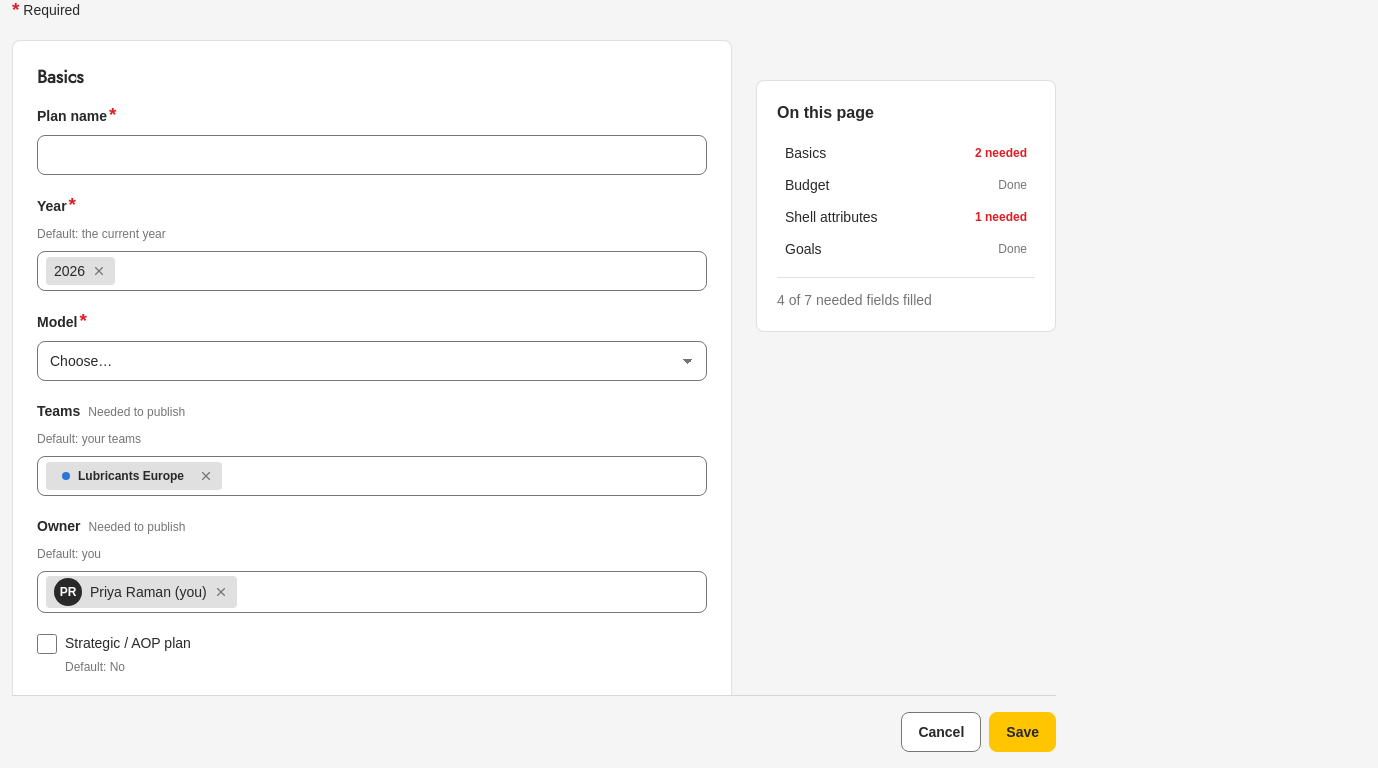
Test: PlanForm (US1, FR-005 – FR-010) › calculates the goals live from the chosen model (US1#5, FR-009)
The image size is (1378, 768).
Select "Lubricants 1.0" in the dropdown labelled "Model" at [372, 361], box x1=37 y1=341 x2=707 y2=381
(page scrolled)
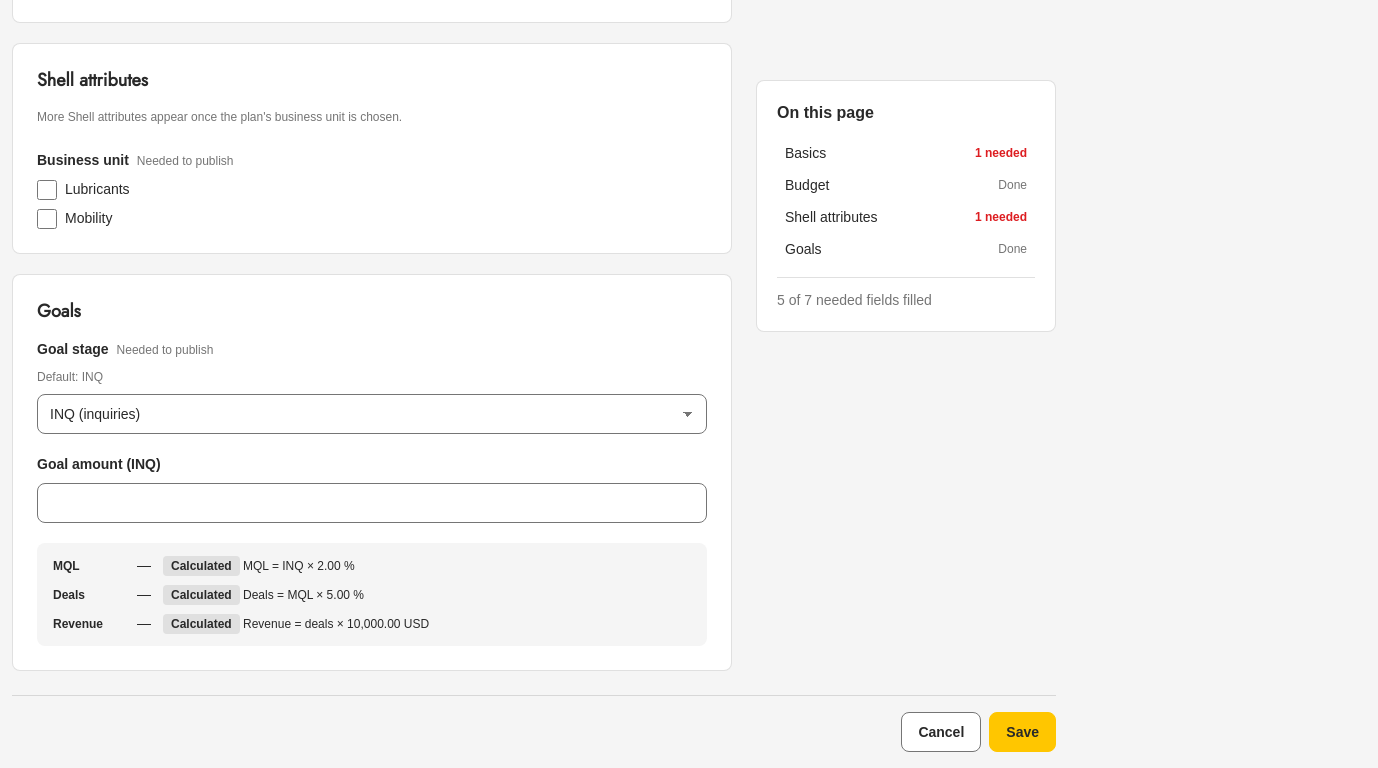
Type "250000" into the field labelled "Goal amount (INQ)" at [372, 503], box x1=37 y1=483 x2=707 y2=523
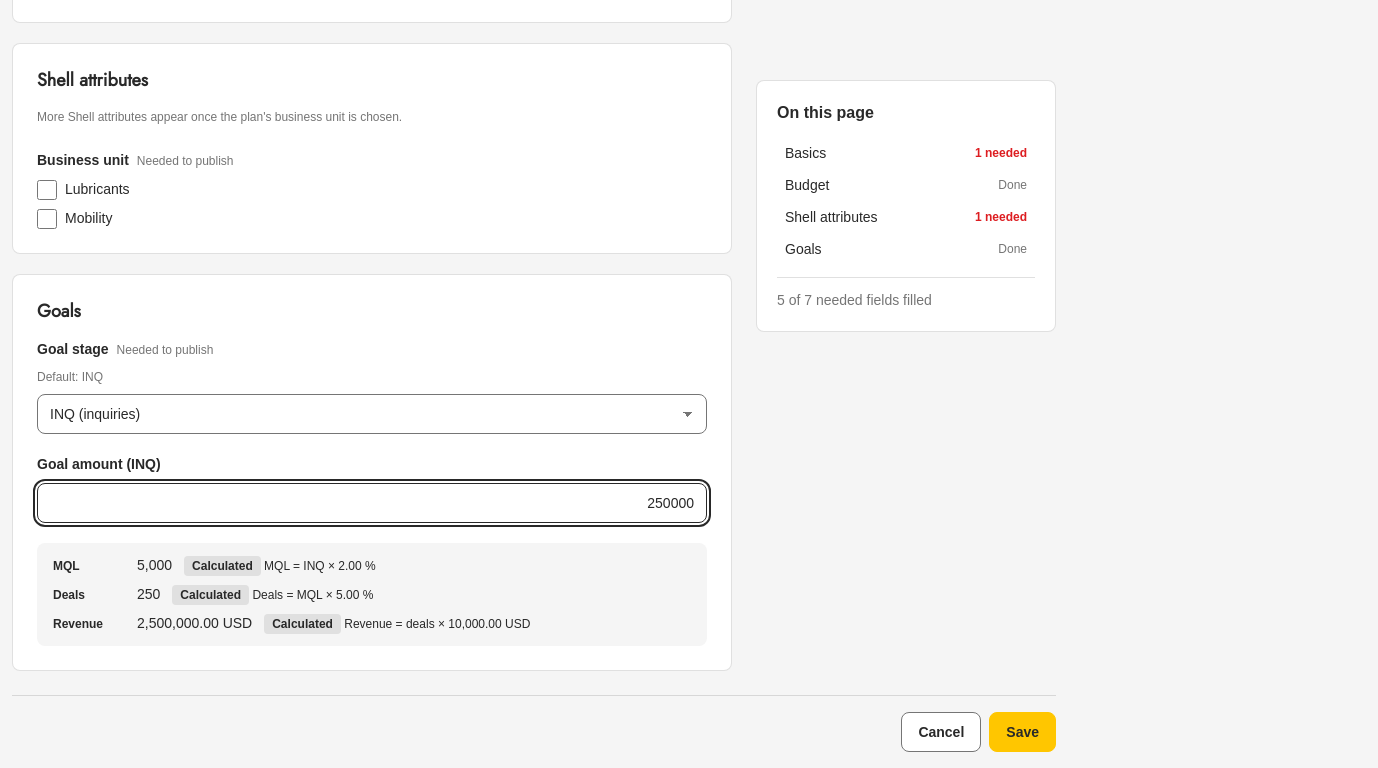
Result: the text "Calculated" is shown 3 times at x1=184 y1=556 x2=261 y2=576; x1=172 y1=585 x2=249 y2=605; x1=264 y1=614 x2=341 y2=634
Result: the text "5,000" is shown at x1=137 y1=555 x2=172 y2=576
Result: the text "2,500,000.00 USD" is shown at x1=137 y1=613 x2=252 y2=634
